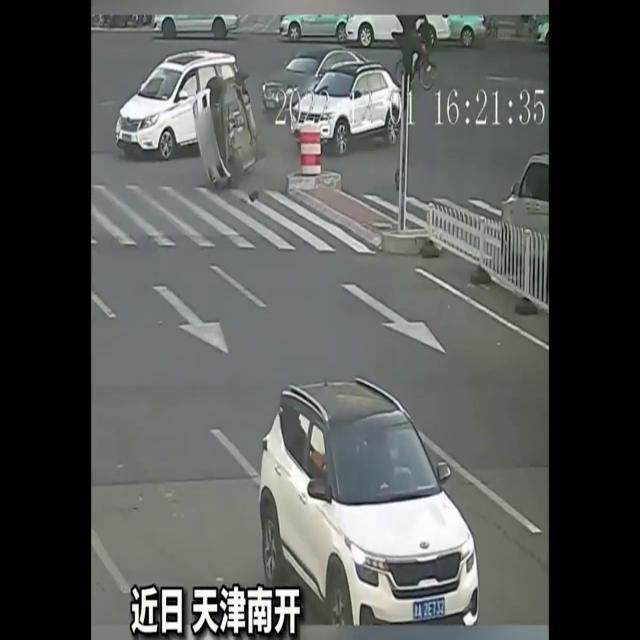multiple_accident: (96, 5, 416, 214)
normal: (257, 367, 528, 636)
